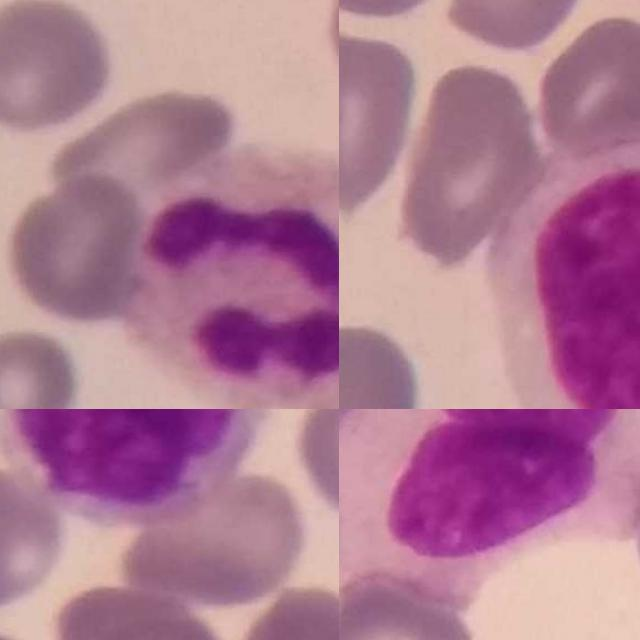Monocyte: (339, 409, 640, 609), (492, 120, 640, 409), (5, 409, 270, 528)
Neutrophil: (133, 147, 339, 409)
